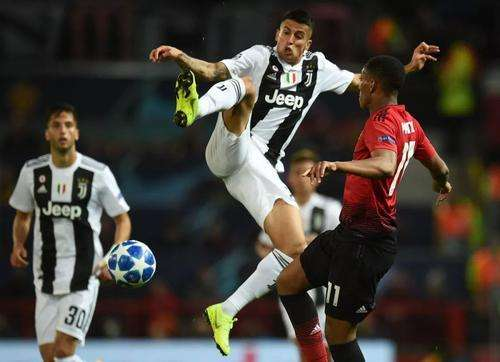ball: (106, 240, 156, 286)
